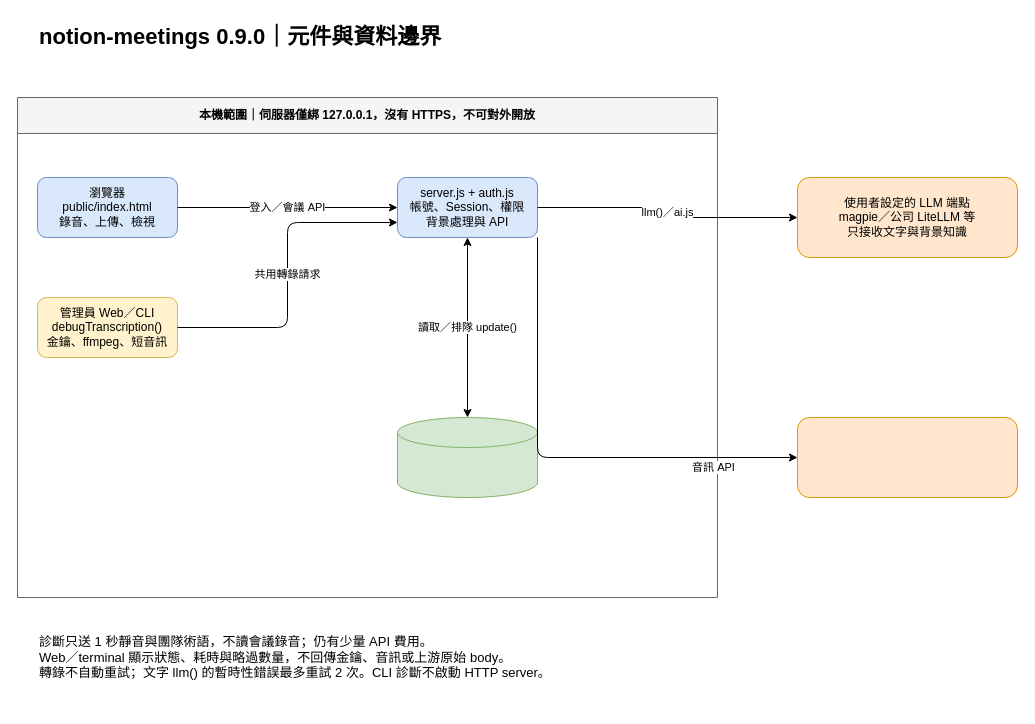
Some shapes in this 1035 by 724 pixel diagram are drawn without their labels. Here are the shapes that lost their labels. From the top down, the centre of each, then its label:
At point 467,457: "DATA_DIR（不進 Git） 錄音、meeting.json 帳號、知識、模型設定".
At point 907,457: "OpenRouter → MAI／Azure 音訊強制 ZDR、分講者 phraseList 最多 200 個".
